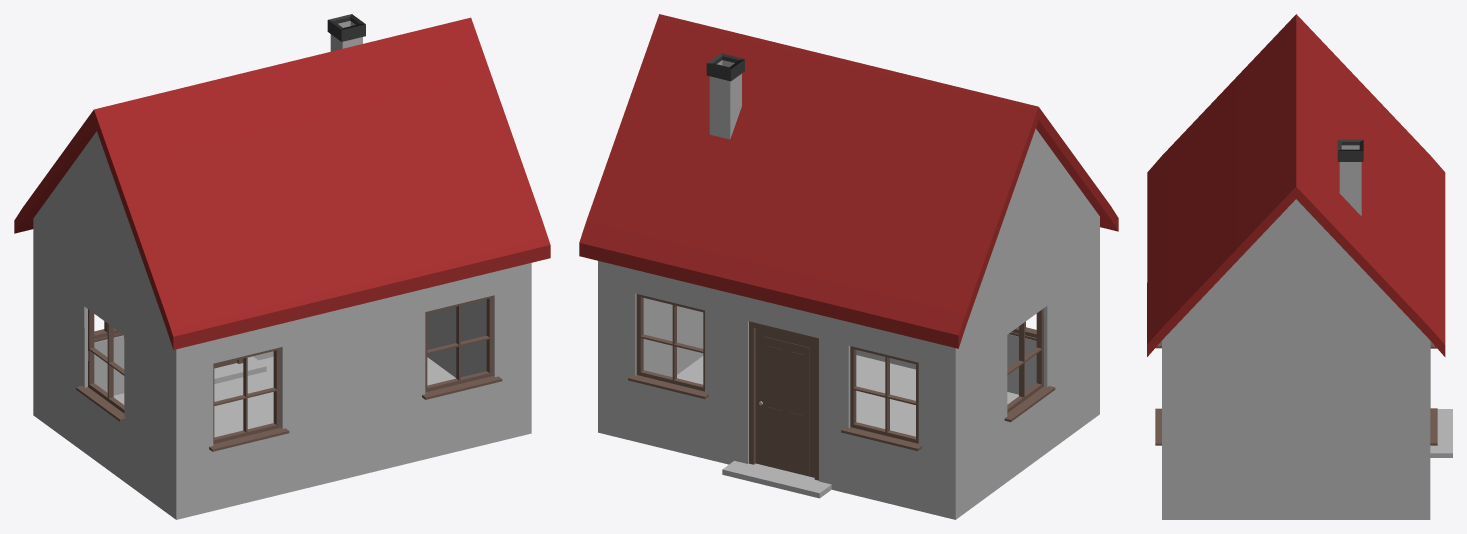
The model's file is house_1.glb.
3 renders of one model, left to right at view 1: azimuth 30°, elevation 25°; view 2: azimuth 150°, elevation 25°; view 3: azimuth 270°, elevation 25°, orthographic. The views are drawn at different scales.
Visible parts, largest first — view 1: node-0; view 2: node-0; view 3: node-0.
Part boxes in pixels (bbox=[...]): node-0: bbox=[14, 14, 550, 519]; node-0: bbox=[579, 14, 1118, 519]; node-0: bbox=[1147, 14, 1452, 519].
Size of the model in its own units: 12.22 by 11.3 by 9.15.
